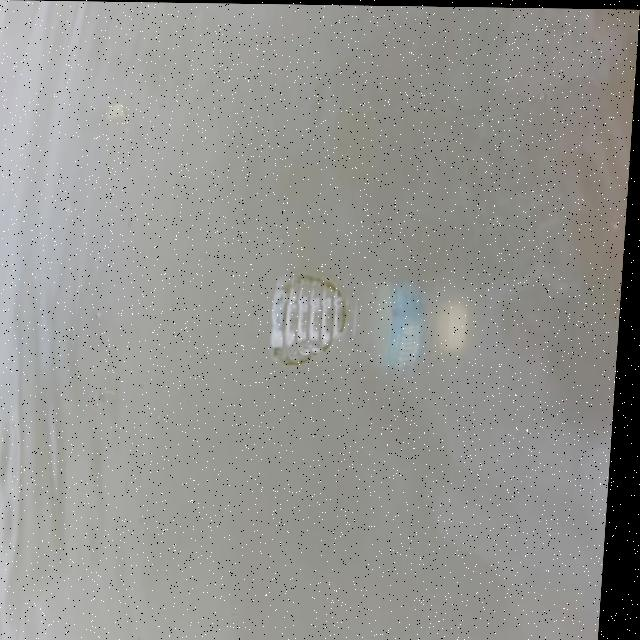waterbottle: (249, 248, 469, 377)
